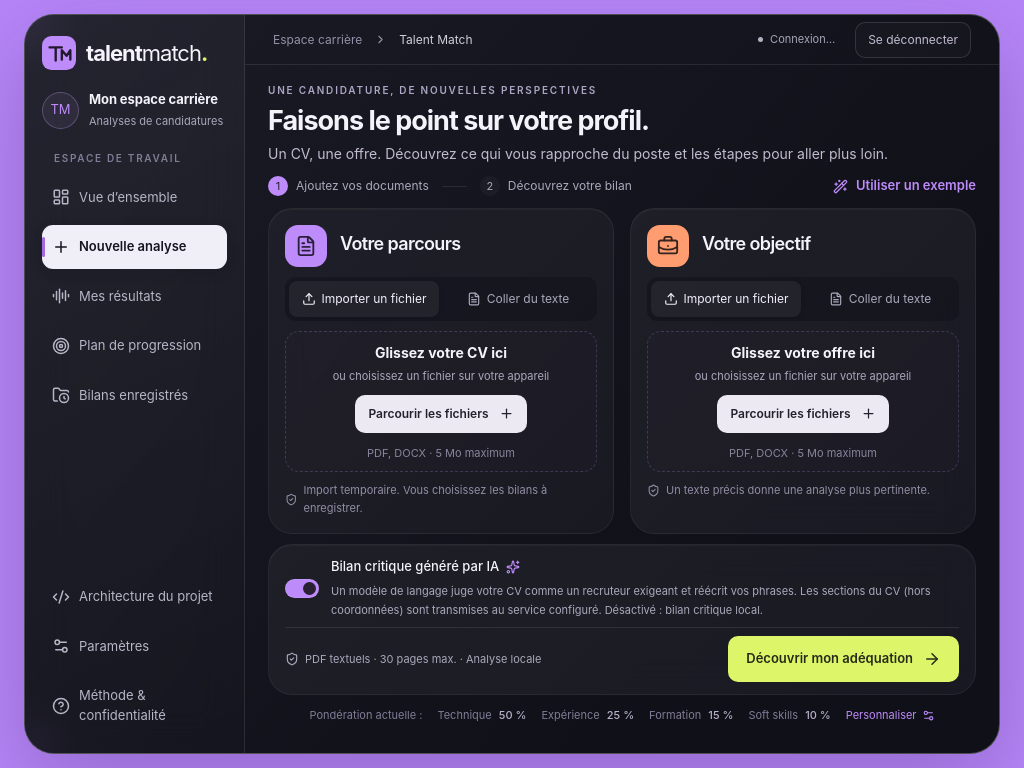
Scenario: Independent result provenance review › does not publish a response that arrives after cancellation
Click the button "Utiliser un exemple" at (904, 186), box [833,176,976,196]
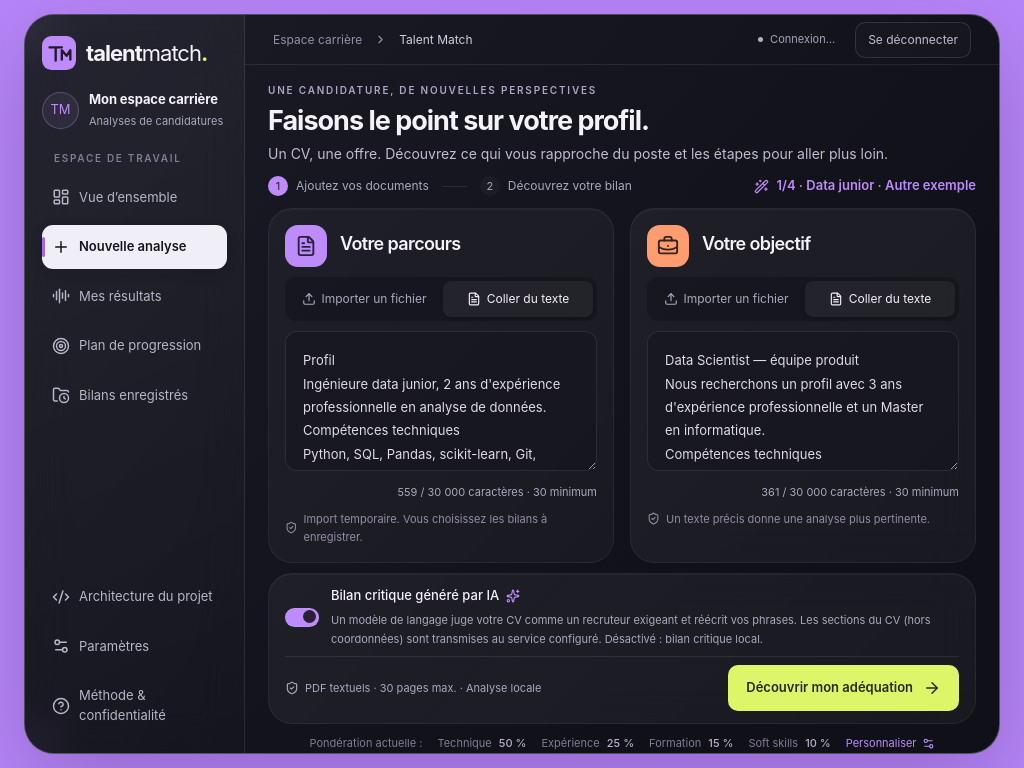
Click the button "Découvrir mon adéquation" at (844, 688), box [728,665,959,710]
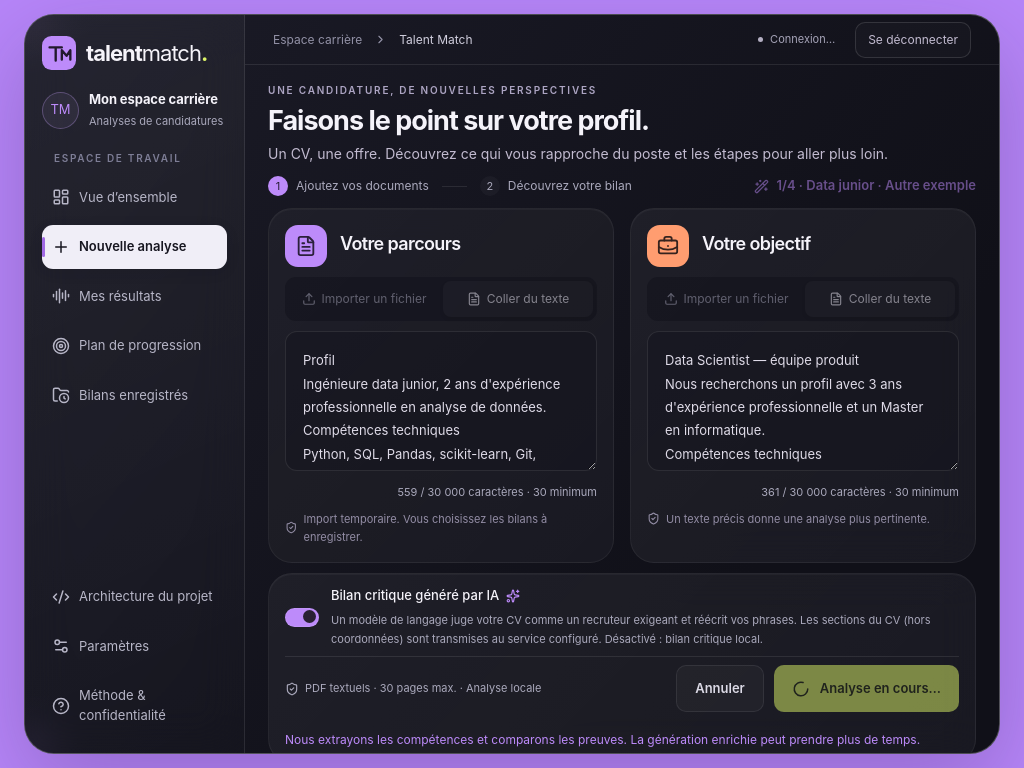
Click the button "Annuler" at (720, 689), box [676,665,764,712]
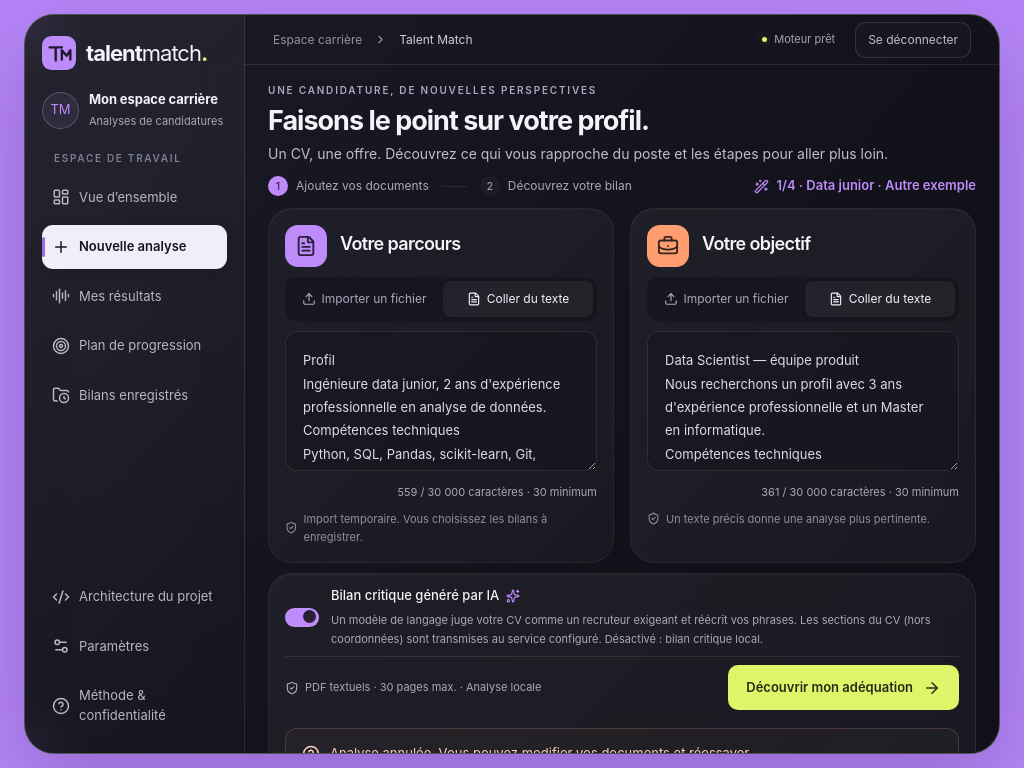
Click the link "Mes résultats" at (107, 296), box [52,287,162,305]
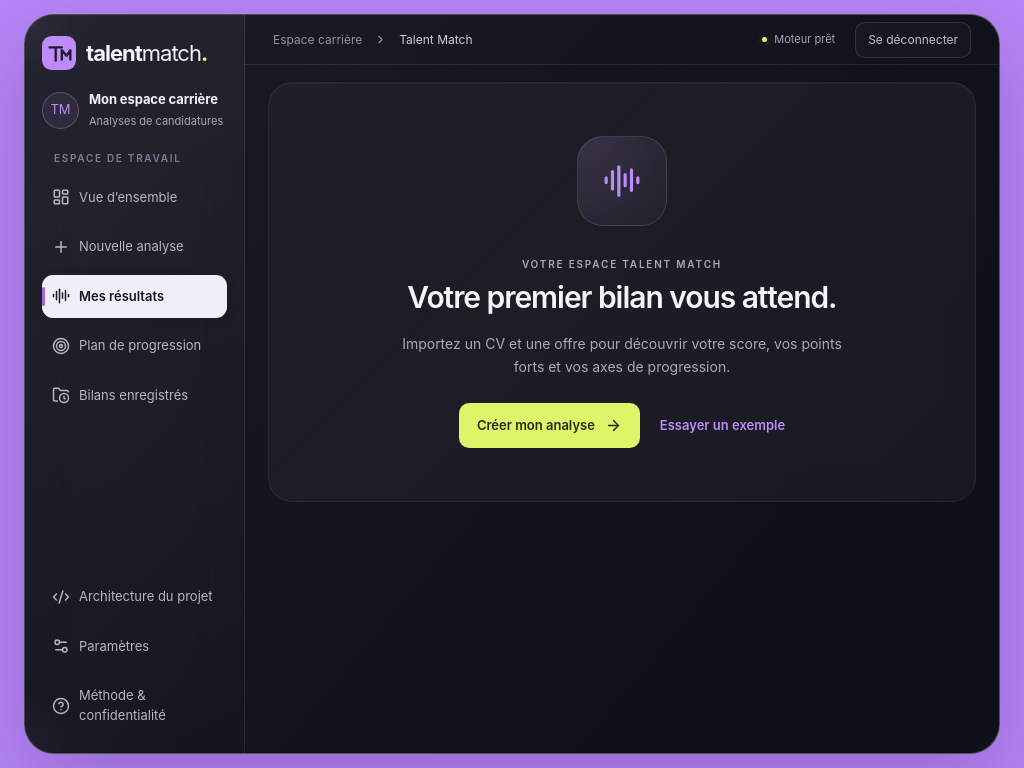
Expected: the heading "Votre premier bilan vous attend." is shown, [407,279,837,317]
